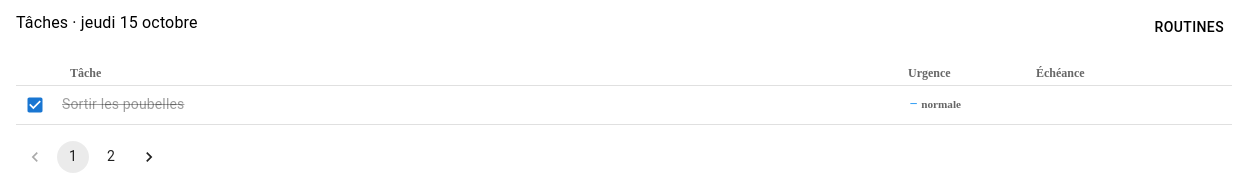
it: TaskBoard › the other views (MAG-408, MAG-644) › « Faites » goes back a page when the last one is emptied
Expected: the text "Sortir les poubelles" is shown, [62,94,184,114]
Click the button named "page 2" at {"x": 111, "y": 156}, box [95,140,127,172]
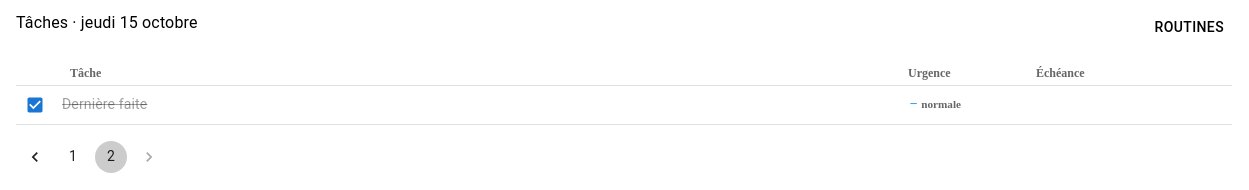
Expected: the text "Dernière faite" is shown, [62,94,147,114]
Click the checkbox at {"x": 35, "y": 104}, box [25,94,45,114]
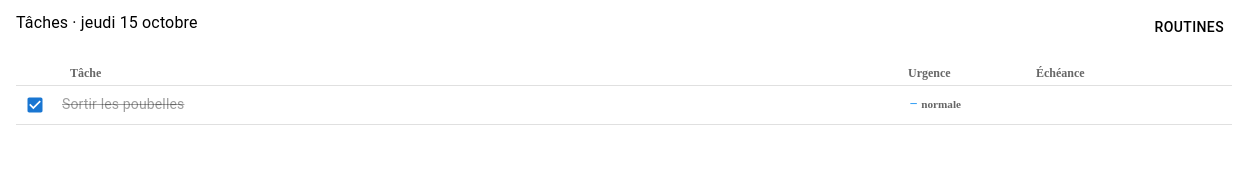
Expected: the text "Sortir les poubelles" is shown, [62,94,184,114]
